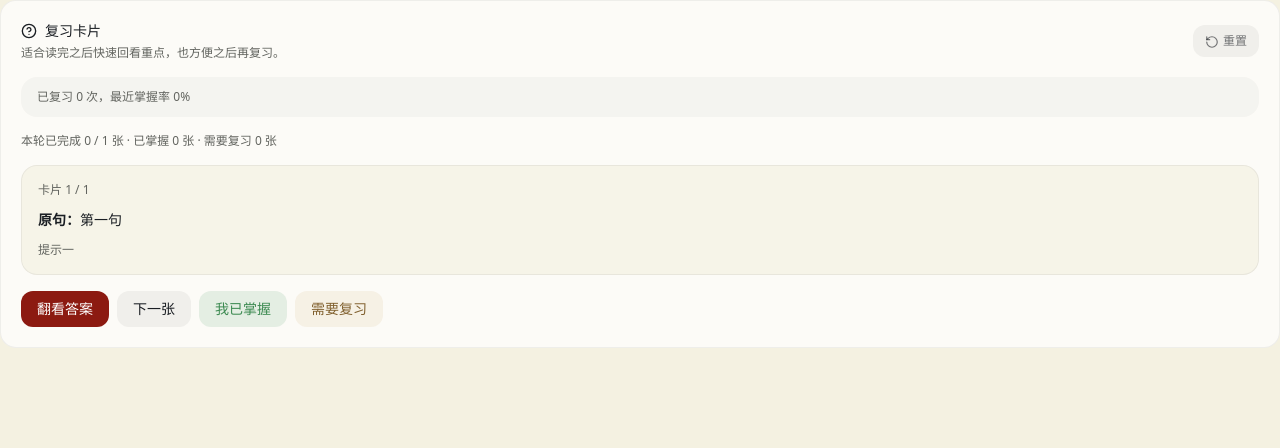
Scenario: learning panels › surfaces a failed study save and retries the same card totals
Step 1. Click the button "我已掌握" → point(243, 309), box top-left (199, 291), bottom-right (287, 327)
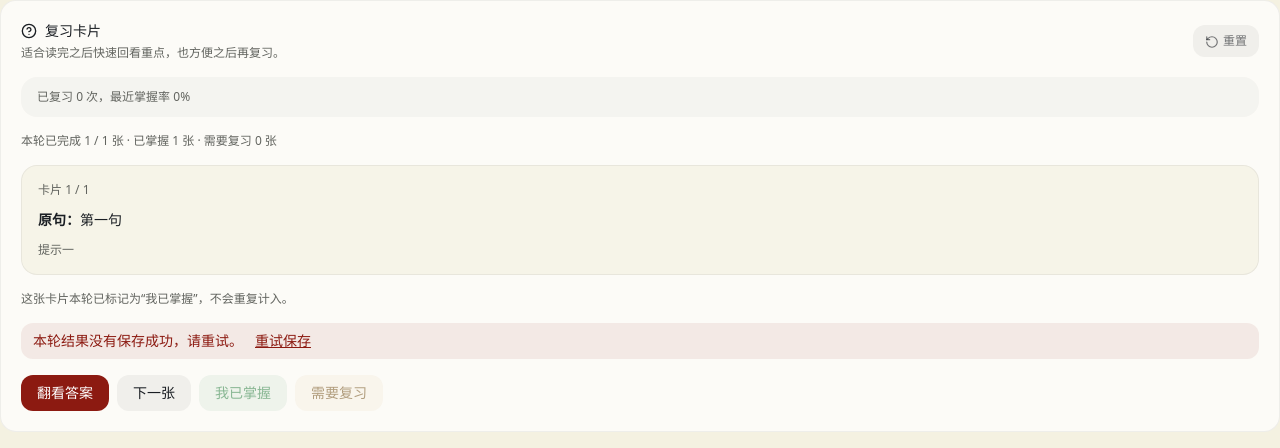
Result: the text "本轮结果没有保存成功，请重试。" is shown at top-left (33, 331), bottom-right (243, 350)
Step 2. Click the button "重试保存" → point(283, 341), box top-left (255, 331), bottom-right (311, 351)
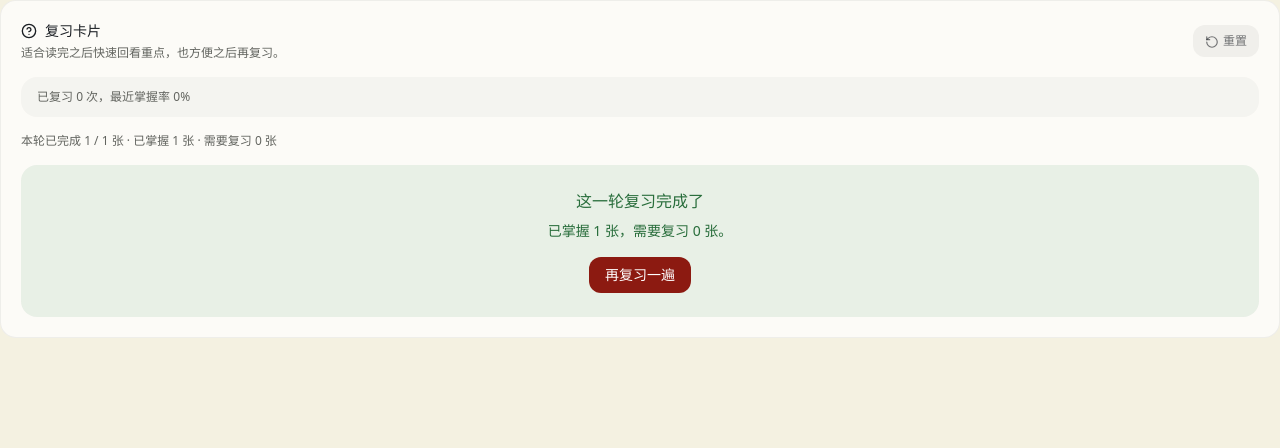
Result: the text "这一轮复习完成了" is shown at top-left (576, 190), bottom-right (704, 212)
